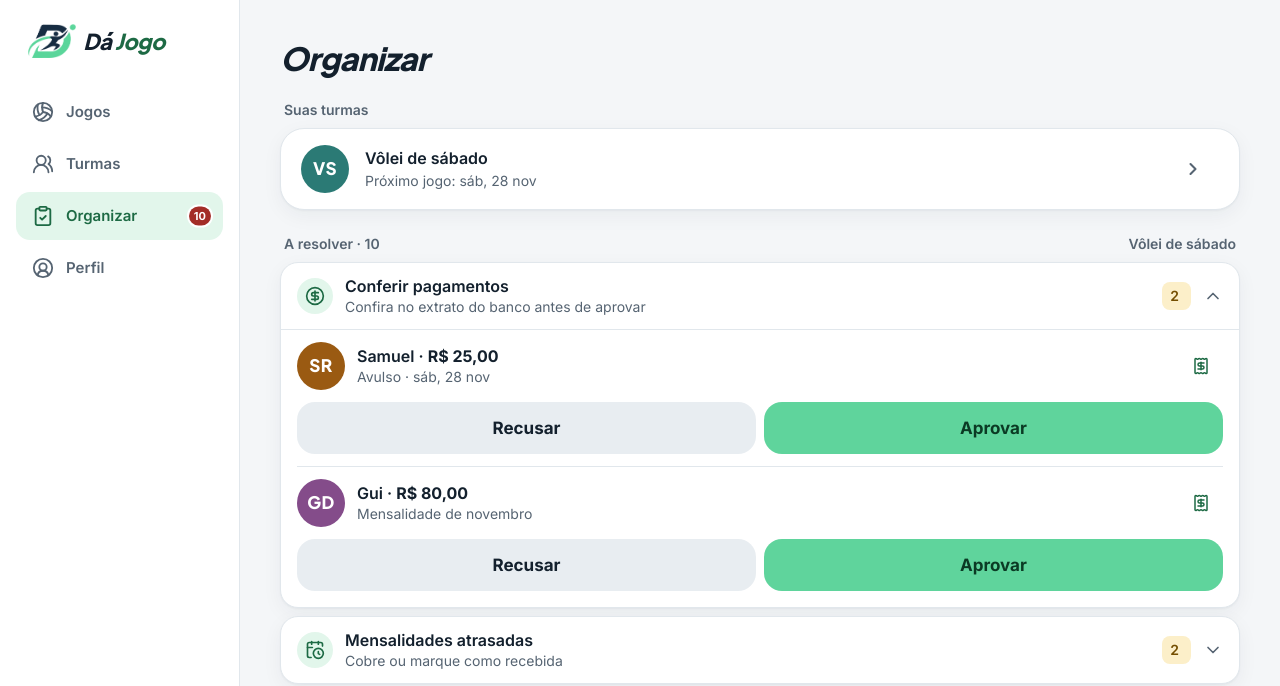
Test: 4.1 Organizar: "A resolver" sem sair da tela › recusar abre a folha de motivo; quando a pendência termina, a próxima abre sozinha
Expected: the button "Conferir pagamentos" is shown, x1=281 y1=263 x2=1239 y2=329
Click the button "Recusar" below "Avulso · sáb, 28 nov".
click(526, 428)  # box x1=297 y1=402 x2=756 y2=454
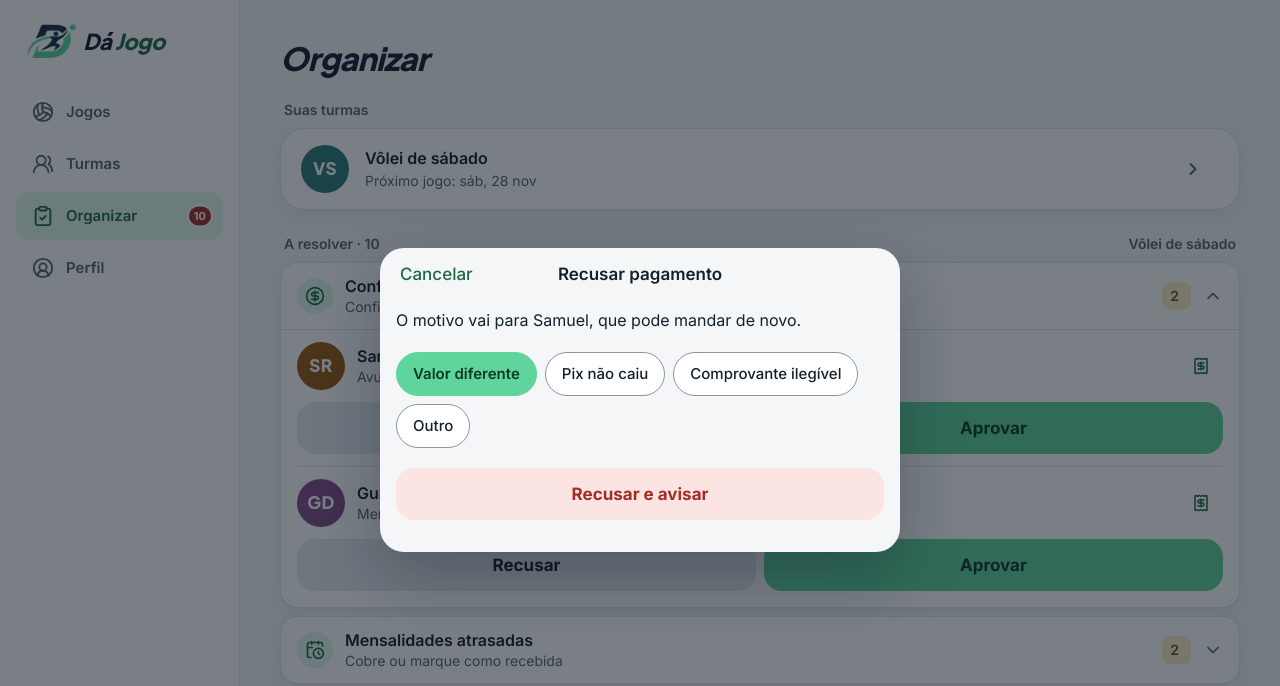
Click the button "Pix não caiu".
click(605, 374)  # box x1=545 y1=352 x2=665 y2=396
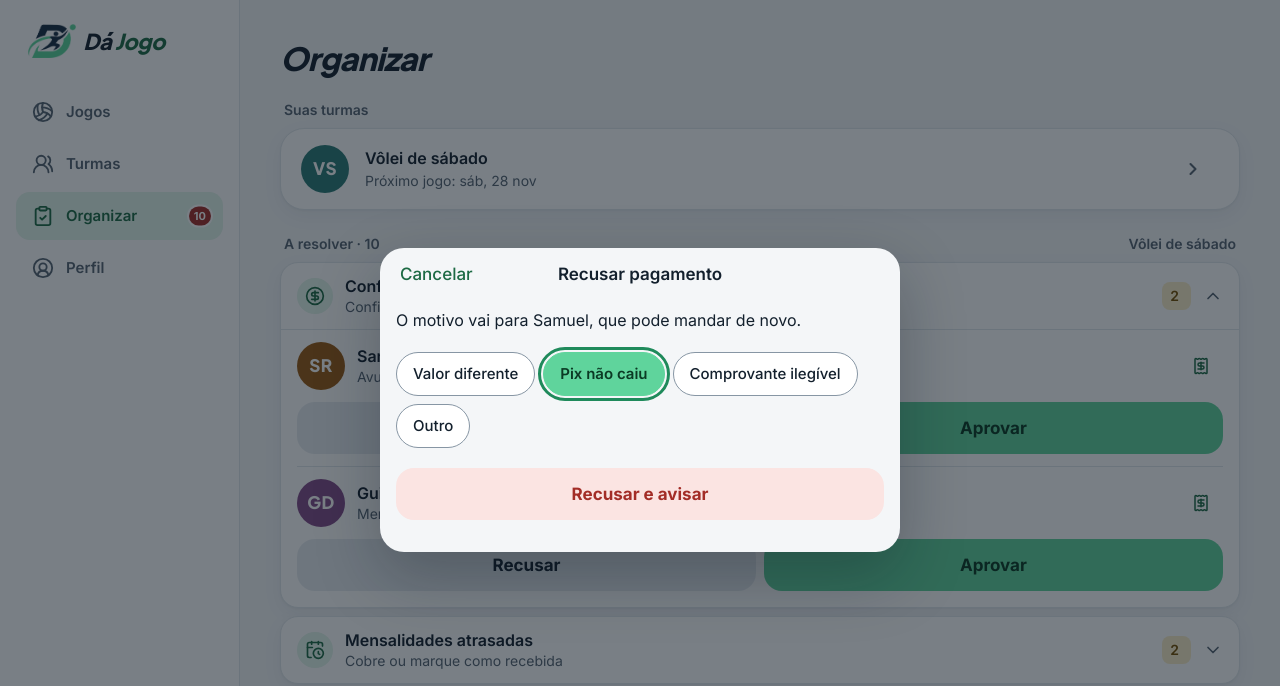
Click the button "Recusar e avisar".
click(640, 494)  # box x1=396 y1=468 x2=884 y2=520
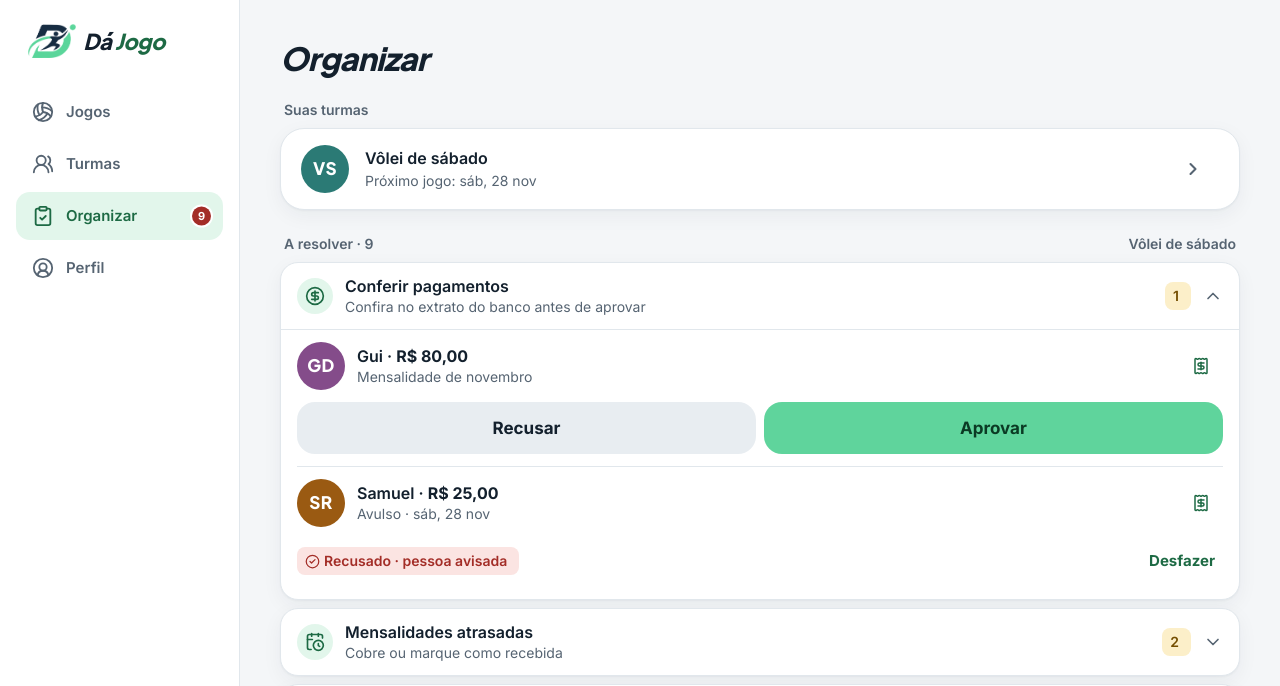
Expected: the heading "Recusar pagamento" is gone
Click the button "Recusar".
click(526, 428)  # box x1=297 y1=402 x2=756 y2=454
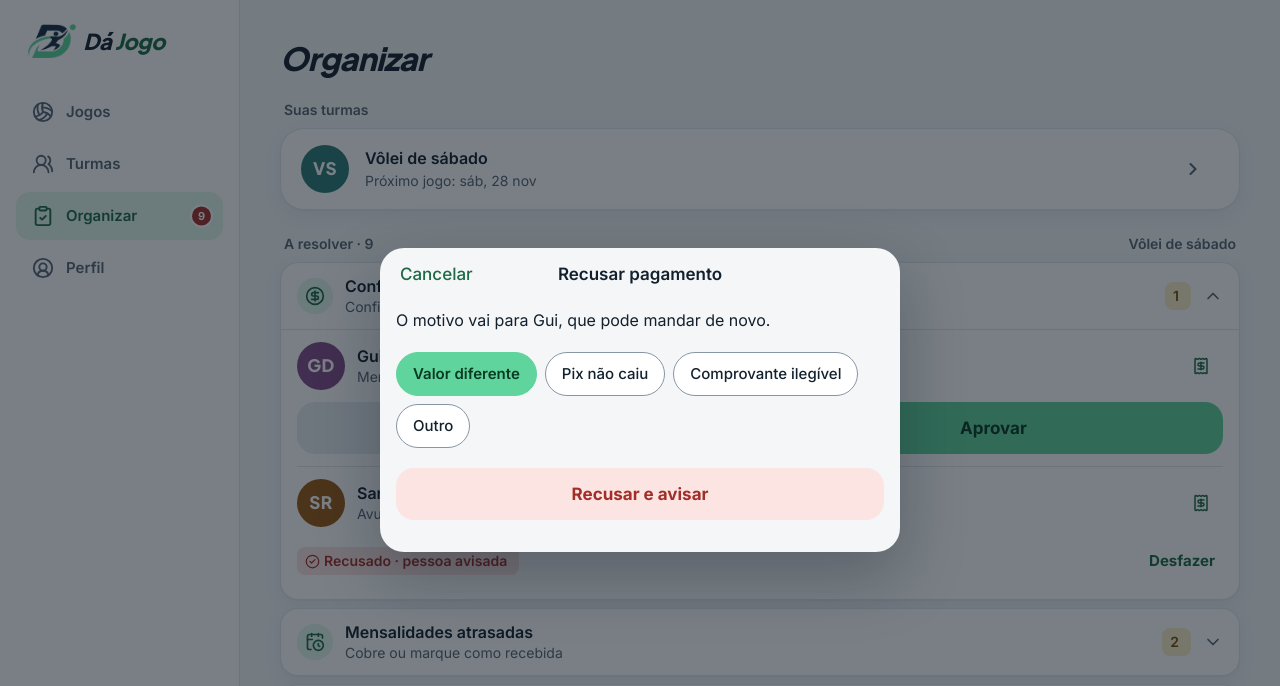
Click the button "Pix não caiu".
click(605, 374)  # box x1=545 y1=352 x2=665 y2=396
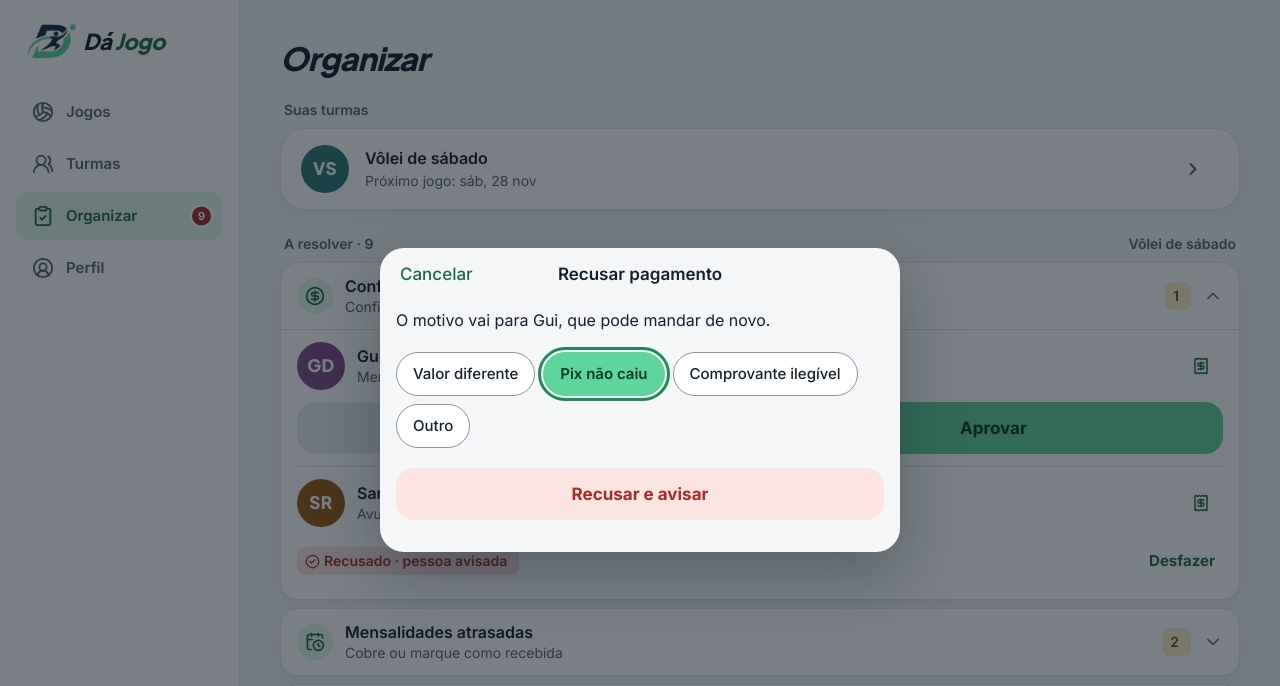
Click the button "Recusar e avisar".
click(640, 494)  # box x1=396 y1=468 x2=884 y2=520
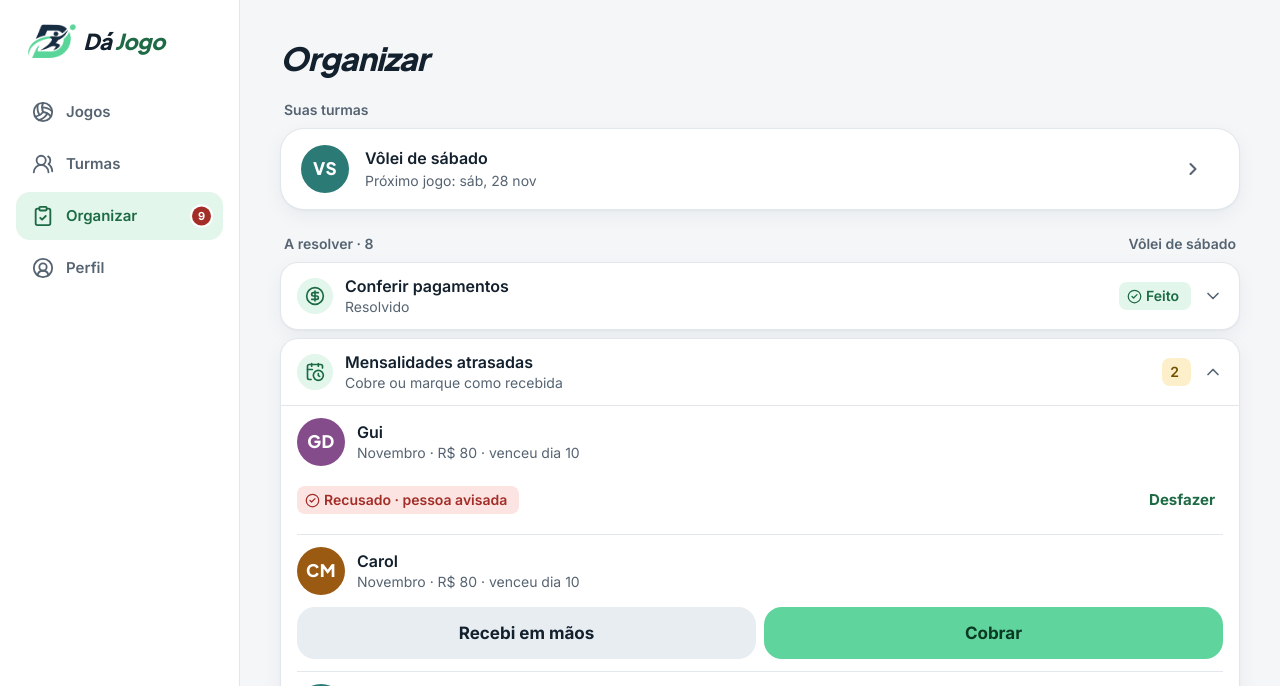
Expected: the heading "Recusar pagamento" is gone
Expected: the button "Mensalidades atrasadas Cobre ou marque como recebida 2" is expanded, x1=281 y1=339 x2=1239 y2=405
Expected: the button "Conferir pagamentos Resolvido Feito" is shown, x1=281 y1=263 x2=1239 y2=329
